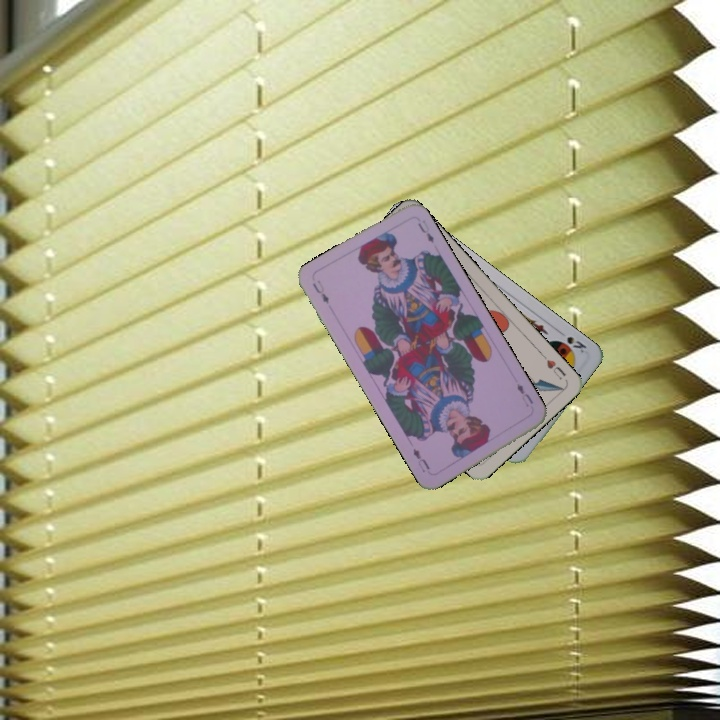EU: (308, 276, 332, 306), (513, 379, 536, 409)
HU: (538, 350, 569, 383)
SK: (554, 326, 589, 356)
